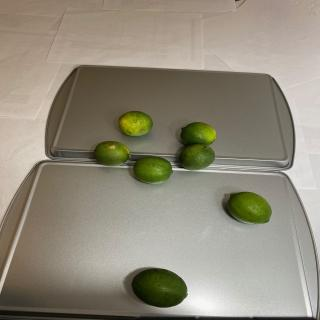Lemon: (131, 268, 188, 308), (227, 191, 272, 225), (133, 156, 173, 184), (179, 144, 215, 170), (118, 110, 153, 136), (94, 141, 130, 166), (180, 122, 216, 146)
